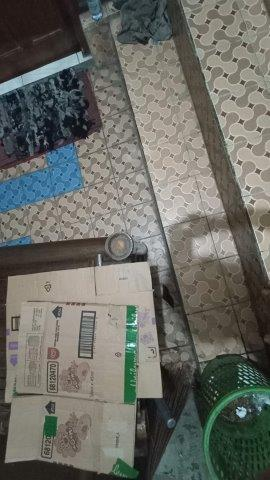kardus: (6, 264, 161, 472)
